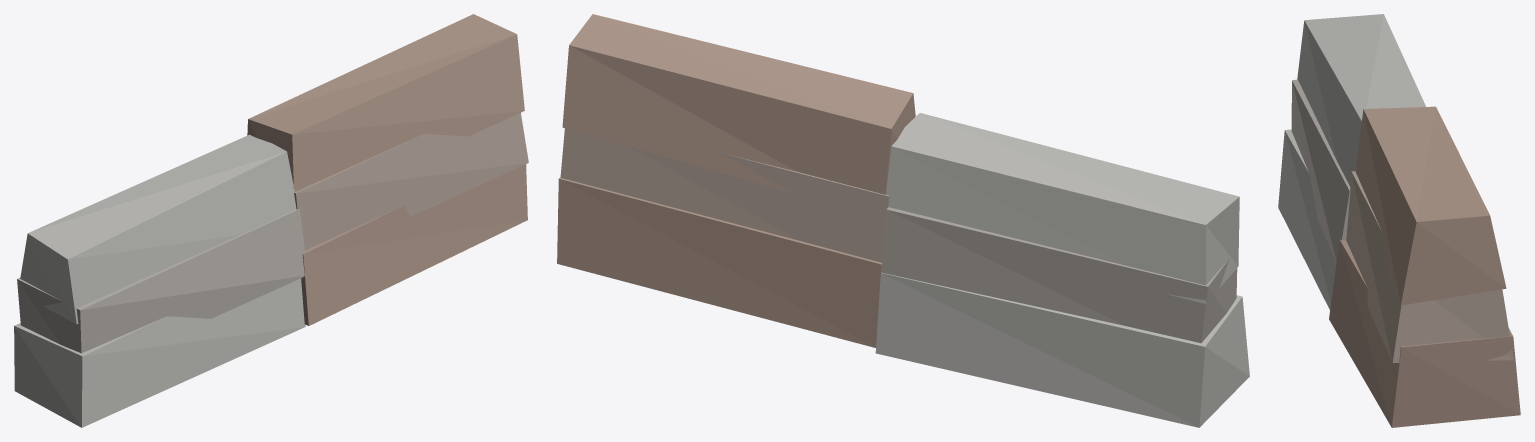
File: farm_-24_-22_mid.glb
3 views of the same model, side by side, from view 1: azimuth 30°, elevation 25°; view 2: azimuth 150°, elevation 25°; view 3: azimuth 270°, elevation 25° (orthographic). The views are drawn at different scales.
Visible parts, largest first — view 1: geometry_0; view 2: geometry_0; view 3: geometry_0.
Boxes of the visible parts, x1=… form: geometry_0: x1=14, y1=14, x2=528, y2=427; geometry_0: x1=557, y1=14, x2=1249, y2=427; geometry_0: x1=1278, y1=14, x2=1520, y2=427.
Size of the model in its own units: 3.23 by 1.38 by 1.15.
